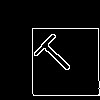T: (25, 25, 80, 80)
